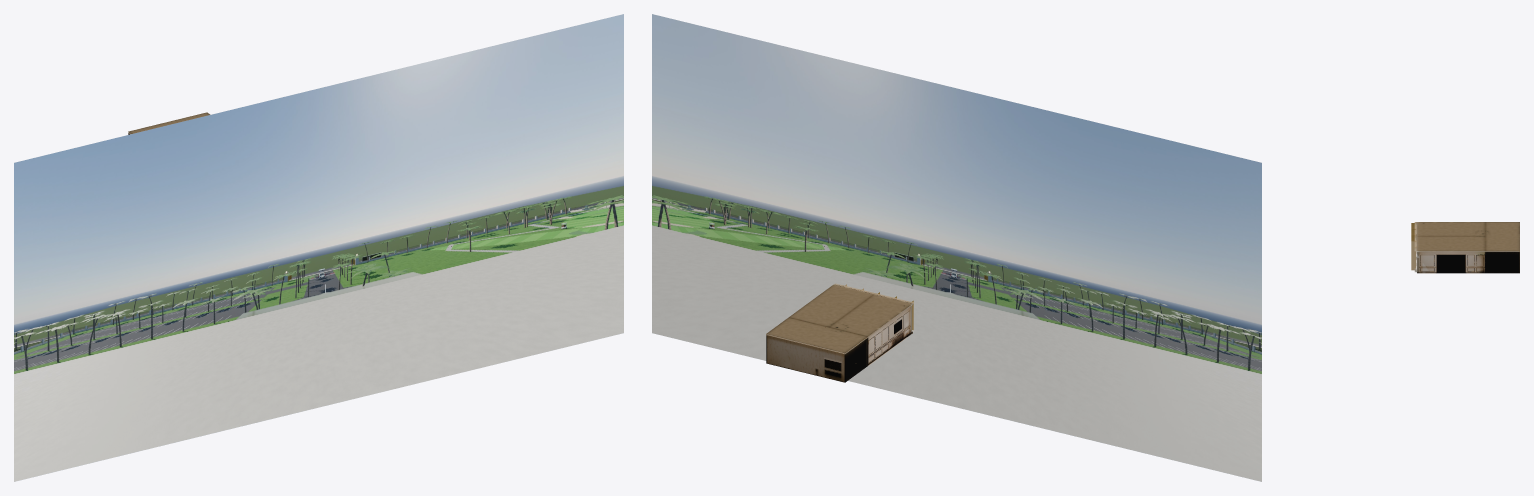
Rendered from int_eko_r8.glb.
The picture shows the model from 3 angles, left to right: view 1: azimuth 30°, elevation 25°; view 2: azimuth 150°, elevation 25°; view 3: azimuth 270°, elevation 25°; orthographic projection. The views are drawn at different scales.
Visible parts, largest first — view 1: VIEW_front; view 2: VIEW_front, ROOM; view 3: ROOM.
Part boxes in pixels (x1,y1,x2,y2): VIEW_front: [14, 14, 623, 481]; VIEW_front: [652, 14, 1261, 481]; ROOM: [766, 283, 913, 382]; ROOM: [1411, 222, 1519, 273].
Bounding box in the file's own units: 72 × 36 × 30.97.
3 materials, 2 textured.
